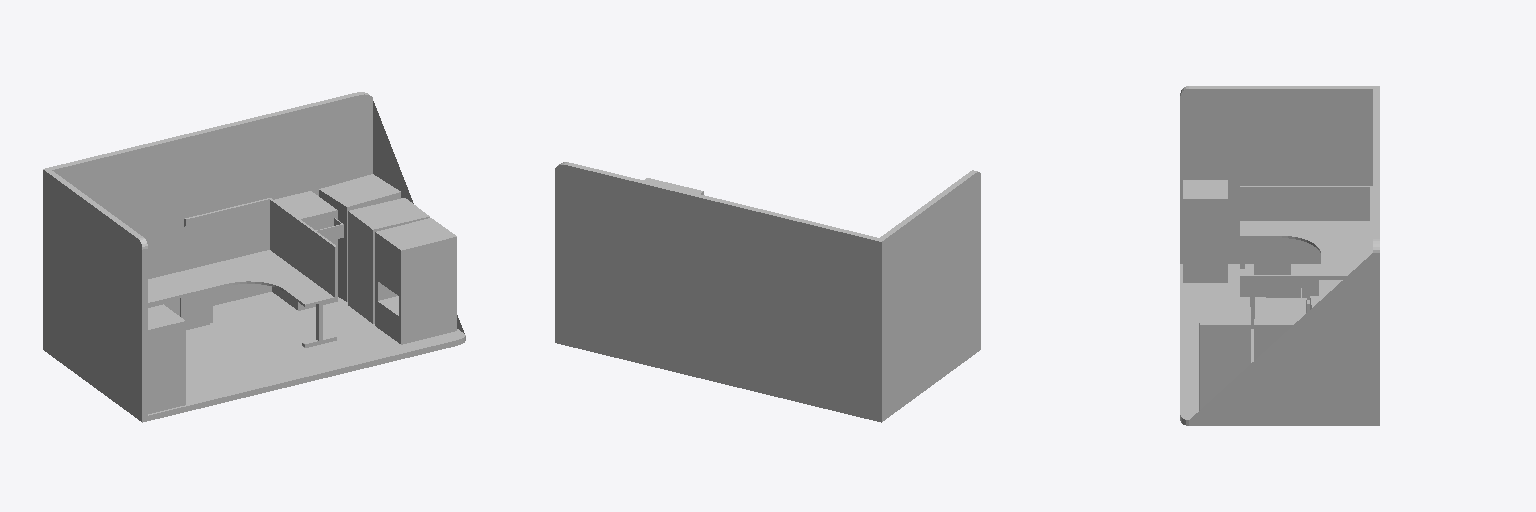
Rendered from TheStanleyParablev12.obj.
The picture shows the model from 3 angles: view 1: azimuth 30°, elevation 25°; view 2: azimuth 150°, elevation 25°; view 3: azimuth 270°, elevation 25°; orthographic projection.
Visible parts, largest first — view 1: Room, Table, Files3.002, Files3.001, Files1, Files3, Files2, SmallFiles3; view 2: Room; view 3: Room, Table, Files3.002, Files1, Files3.001, SmallFiles1.
Boxes of the visible parts, x1=… form: Room: x1=43, y1=92, x2=465, y2=422; Table: x1=146, y1=198, x2=336, y2=306; Files3.002: x1=375, y1=218, x2=456, y2=344; Files3.001: x1=348, y1=198, x2=429, y2=323; Files1: x1=148, y1=304, x2=185, y2=413; Files3: x1=319, y1=174, x2=400, y2=301; Files2: x1=272, y1=191, x2=337, y2=310; SmallFiles3: x1=180, y1=290, x2=212, y2=329; Room: x1=555, y1=162, x2=980, y2=422; Room: x1=1180, y1=86, x2=1379, y2=425; Table: x1=1240, y1=186, x2=1372, y2=328; Files3.002: x1=1199, y1=297, x2=1250, y2=410; Files1: x1=1183, y1=180, x2=1227, y2=282; Files3.001: x1=1254, y1=297, x2=1306, y2=360; SmallFiles1: x1=1254, y1=238, x2=1290, y2=274.
Size of the model in its own units: 14.2 by 7.5 by 7.5.